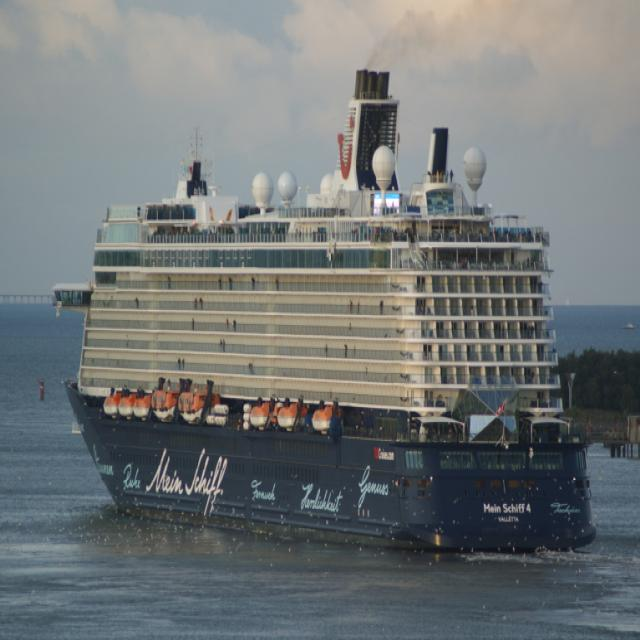cruises: (49, 45, 603, 560)
